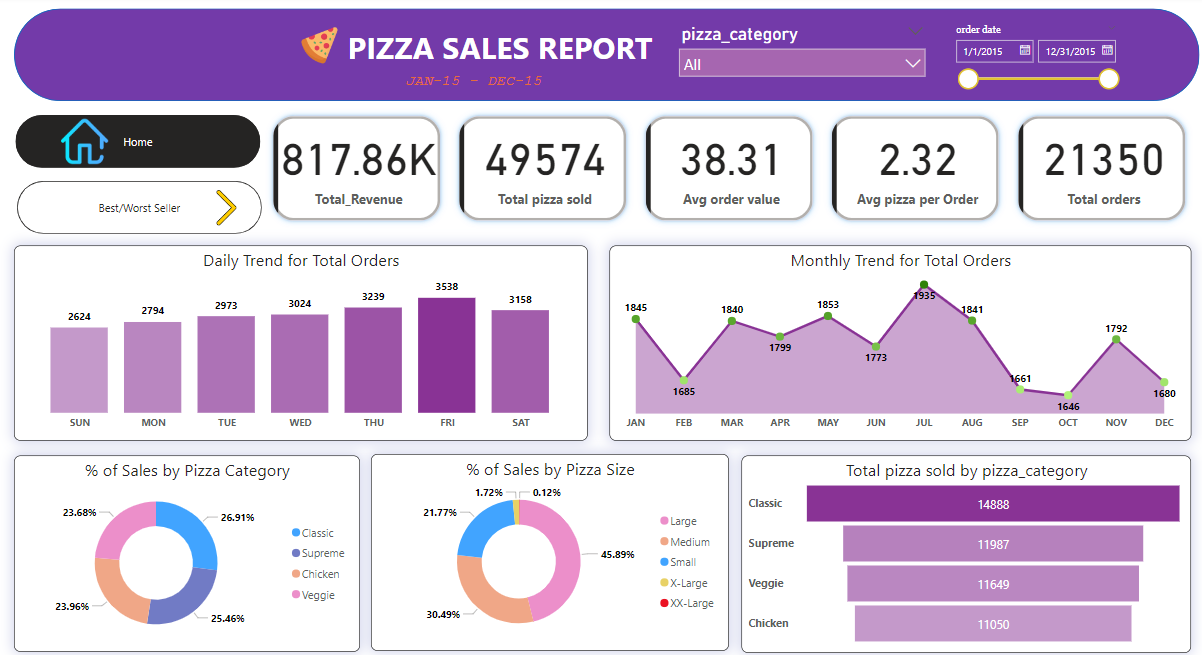

The dashboard page shown, as its layout file describes it:
{"tool":"powerbi","page":{"name":"Home","canvas":[1500,820],"ordinal":0},"visuals":[{"type":"cardVisual","fields":{"Data":["pizza_sales.Total_Revenue","pizza_sales.Total pizza sold","pizza_sales.Avg order value","pizza_sales.Avg pizza per Order","pizza_sales.Total orders"]},"box":[325,132.5,1155,160],"z":0},{"type":"shape","box":[22.5,17.5,1457.5,113.8],"z":1000},{"type":"textbox","box":[422.3,33.2,394.6,70.1],"z":2000},{"type":"image","box":[145.7,33.2,503.4,57.2],"z":3000},{"type":"textbox","box":[422.3,90.4,328.3,40.6],"z":4000},{"type":"columnChart","title":"Daily Trend for Total Orders","fields":{"Category":["pizza_sales.Order Day"],"Y":["pizza_sales.Total orders"]},"box":[22.5,307.5,705,240],"z":5000},{"type":"areaChart","title":"Monthly Trend for Total Orders","fields":{"Y":["pizza_sales.Total orders"],"Category":["pizza_sales.Order Month"]},"box":[753.3,308.3,715,240],"z":6000},{"type":"donutChart","title":"% of Sales by  Pizza Category","fields":{"Category":["pizza_sales.pizza_category"],"Y":["pizza_sales.Total_Revenue"]},"box":[22.9,565.7,425,241.4],"z":7000},{"type":"donutChart","title":"% of Sales by  Pizza Size","fields":{"Y":["pizza_sales.Total_Revenue"],"Category":["pizza_sales.pizza_size"]},"box":[461.7,565,440,241.7],"z":8000},{"type":"funnel","fields":{"Category":["pizza_sales.pizza_category"],"Y":["pizza_sales.Total pizza sold"]},"box":[915.7,565.7,552.9,242.9],"z":9000},{"type":"slicer","fields":{"Values":["pizza_sales.pizza_category"]},"box":[829.9,29.5,322.7,77.5],"z":10000},{"type":"slicer","fields":{"Values":["pizza_sales.order_date"]},"box":[1167.5,30,222.5,90],"z":11000},{"type":"pageNavigator","box":[23.3,148.3,301.7,65],"z":11001},{"type":"pageNavigator","box":[25,228.3,301.7,65],"z":11002},{"type":"image","box":[71.7,145,73.3,68.3],"z":11003},{"type":"image","box":[256.7,223.3,53.3,76.7],"z":11004}]}

Visuals, with their boxes in screenshot pixels (x1, y1, x2, y2), scaled from the page's 1500x820 canvas onto the 1202x655 screenshot:
cardVisual - pizza_sales.Total_Revenue x pizza_sales.Total pizza sold: region(260, 106, 1186, 234)
shape: region(18, 14, 1186, 105)
textbox: region(338, 27, 655, 83)
image: region(117, 27, 520, 72)
textbox: region(338, 72, 601, 105)
"Daily Trend for Total Orders" columnChart: region(18, 246, 583, 437)
"Monthly Trend for Total Orders" areaChart: region(604, 246, 1177, 438)
"% of Sales by  Pizza Category" donutChart: region(18, 452, 359, 645)
"% of Sales by  Pizza Size" donutChart: region(370, 451, 723, 644)
funnel - pizza_sales.pizza_category x pizza_sales.Total pizza sold: region(734, 452, 1177, 646)
slicer - pizza_sales.pizza_category: region(665, 24, 924, 85)
slicer - pizza_sales.order_date: region(936, 24, 1114, 96)
pageNavigator: region(19, 118, 260, 170)
pageNavigator: region(20, 182, 262, 234)
image: region(57, 116, 116, 170)
image: region(206, 178, 248, 240)
